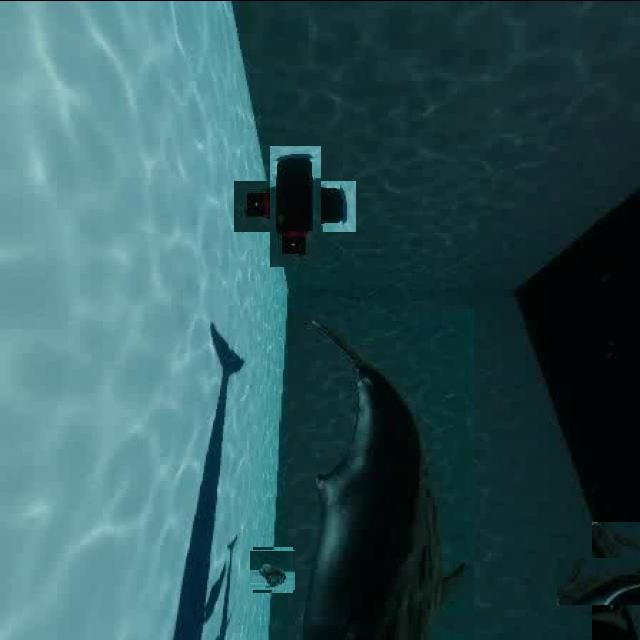Cylinder: (252, 162, 338, 248)
Shell: (251, 548, 294, 590)
Whale: (288, 308, 474, 640), (575, 539, 640, 623)
